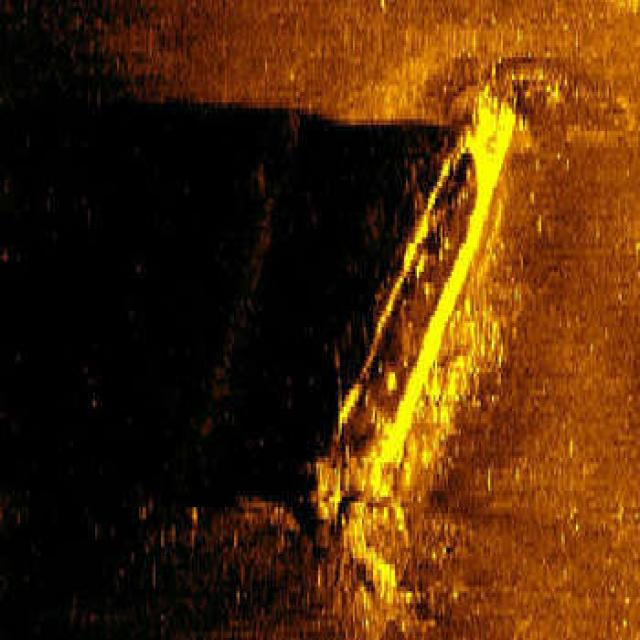ship: (314, 88, 516, 538)
